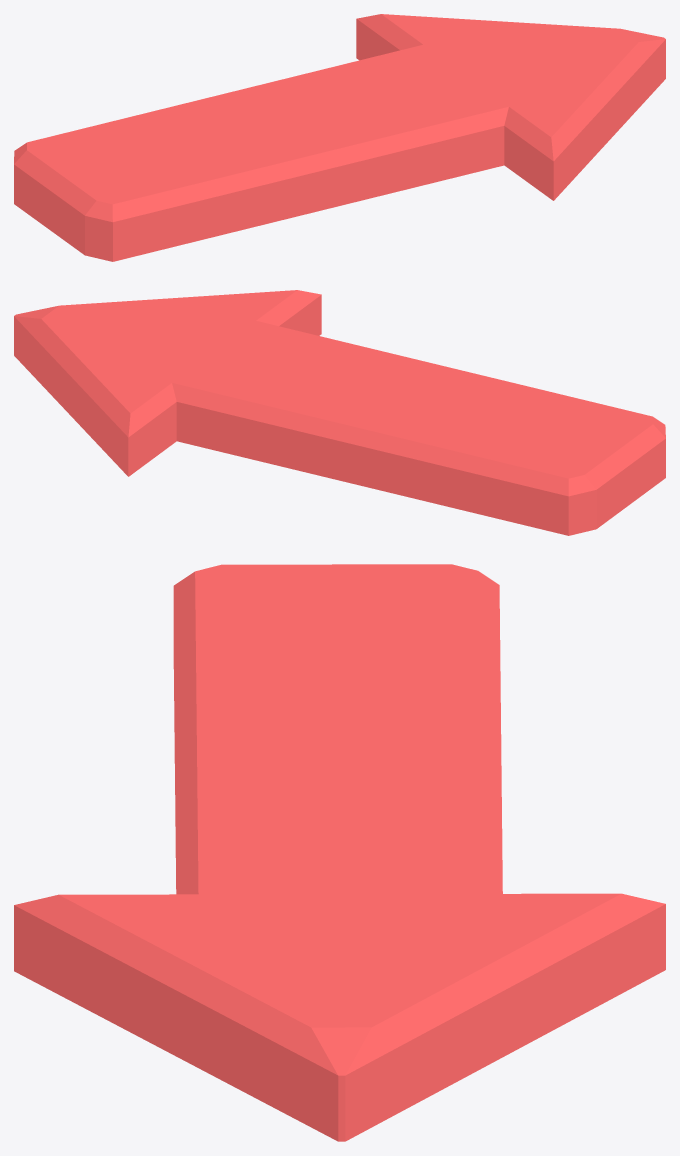
File: arrow.glb
3 views of the same model, one above another, from view 1: azimuth 30°, elevation 25°; view 2: azimuth 150°, elevation 25°; view 3: azimuth 270°, elevation 25° (orthographic). The views are drawn at different scales.
Parts seen in each view (by area): view 1: arrow; view 2: arrow; view 3: arrow.
Boxes of the visible parts, <box> form: arrow: <box>14,14,665,261</box>; arrow: <box>14,290,665,535</box>; arrow: <box>14,564,665,1141</box>.
Size of the model in its own units: 1.85 by 0.1473 by 1.02.
